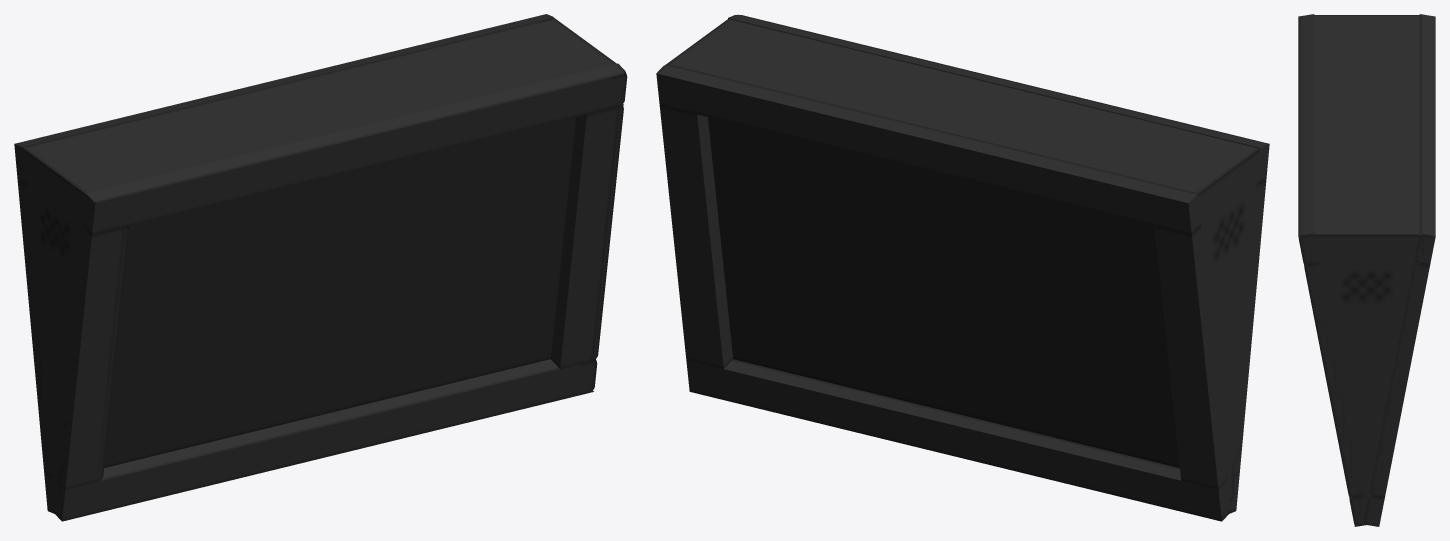
Rendered from pidspole_1.obj.
3 renders of one model, left to right at view 1: azimuth 30°, elevation 25°; view 2: azimuth 150°, elevation 25°; view 3: azimuth 270°, elevation 25°, orthographic. The views are drawn at different scales.
Visible parts, largest first — view 1: cube; view 2: cube; view 3: cube.
Part boxes in pixels (x1,y1,x2,y2): cube: [14, 14, 627, 521]; cube: [656, 14, 1269, 521]; cube: [1298, 14, 1435, 526].
Bounding box in the file's own units: 2 × 1.24 × 0.5281.
1 material, 1 textured.
